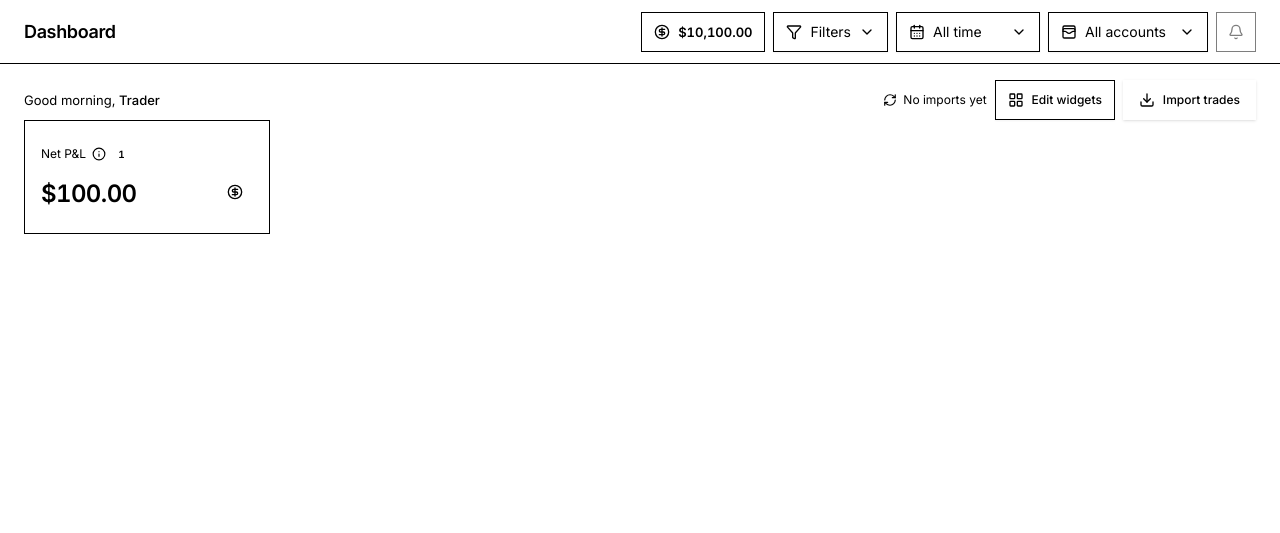
it: Dashboard widget editing › disables Hide on the last visible widget with an accessible reason
Click the button "Edit widgets" at (1055, 100), box [995,80,1115,120]
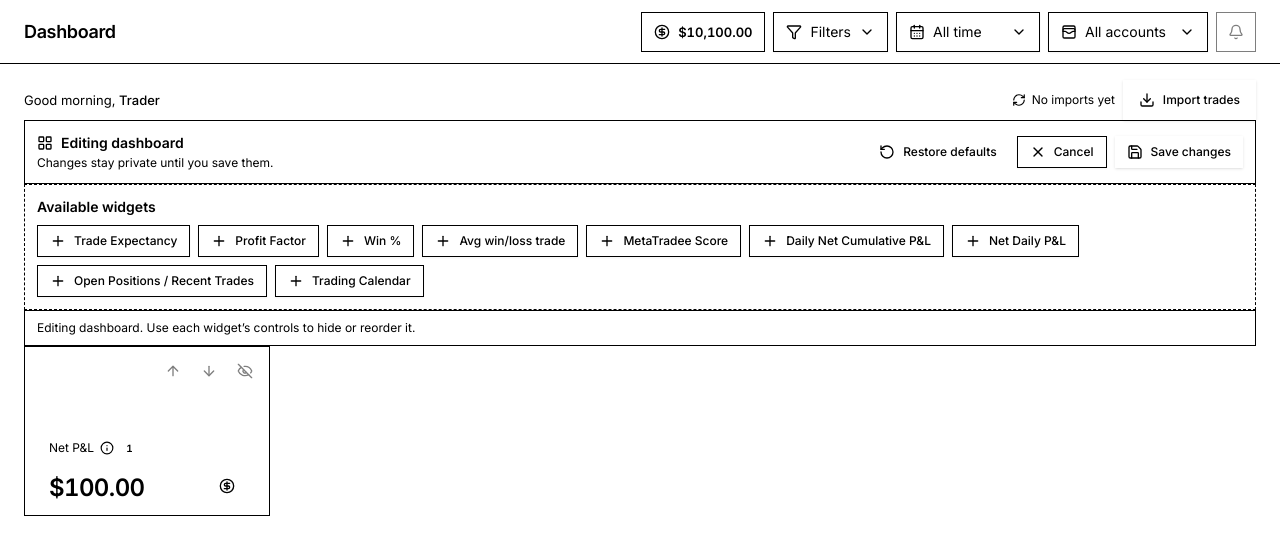
Expected: the text "Editing dashboard" is shown, [37,134,184,151]
Expected: the button named "Net P&L cannot be hidden because it is the last visible widget" is disabled, [229,355,261,387]
